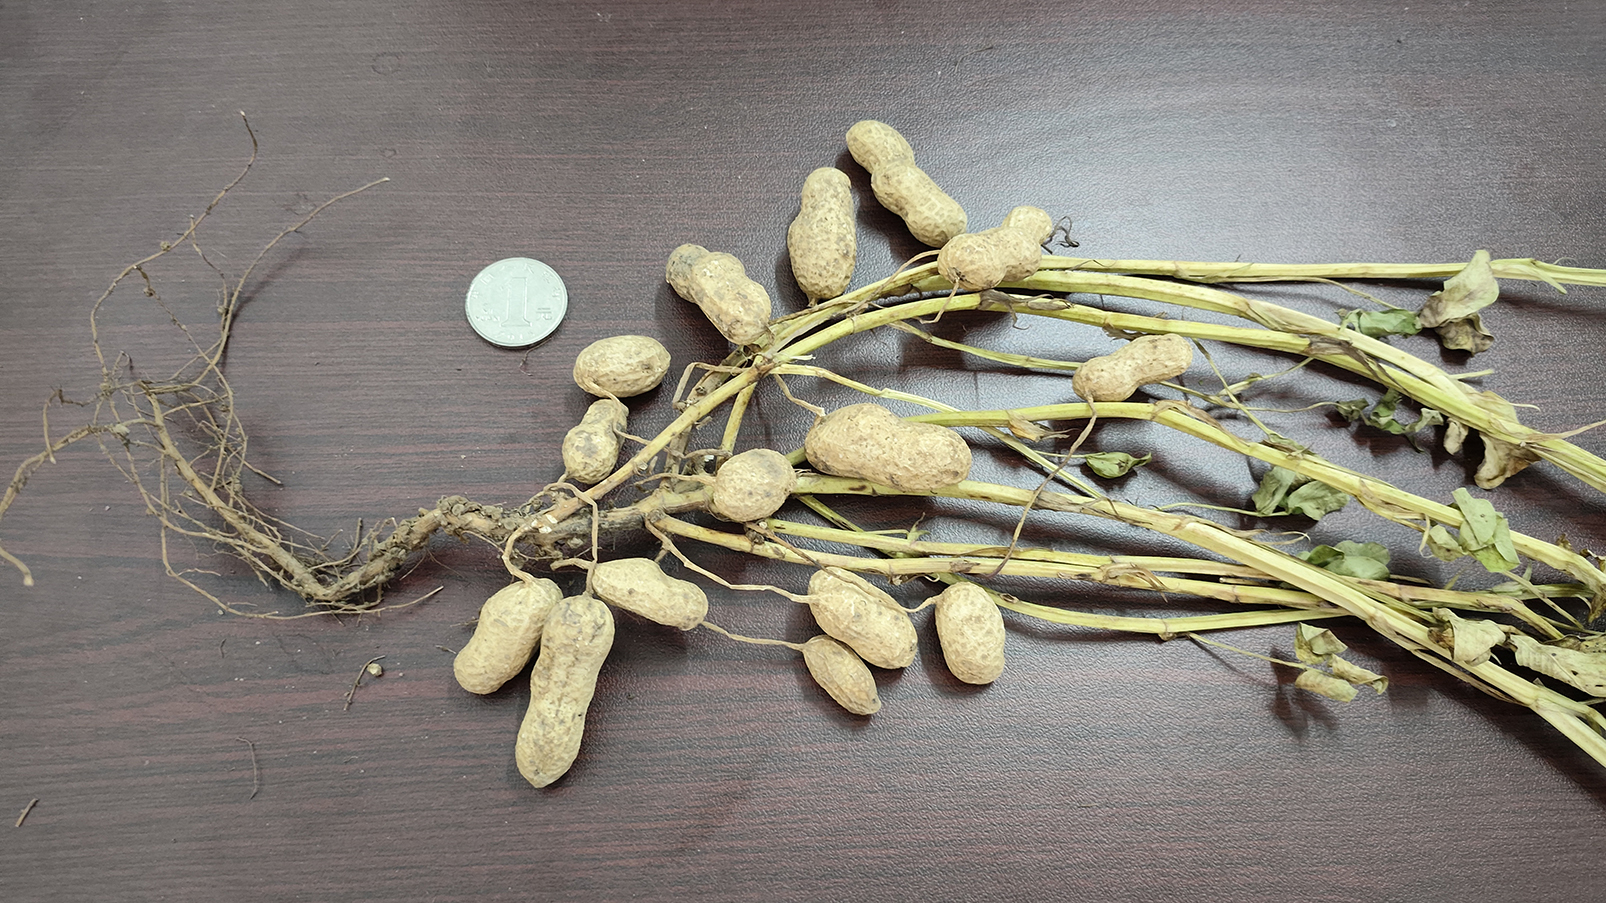h: (514, 596, 615, 787), (845, 118, 968, 246), (804, 402, 973, 490), (453, 576, 565, 695), (805, 566, 918, 668), (666, 241, 771, 344), (936, 206, 1054, 289), (786, 165, 858, 298), (591, 558, 711, 632), (1073, 335, 1193, 401), (934, 580, 1005, 685), (803, 634, 884, 716), (711, 447, 797, 520), (572, 333, 670, 397), (563, 399, 629, 484)
